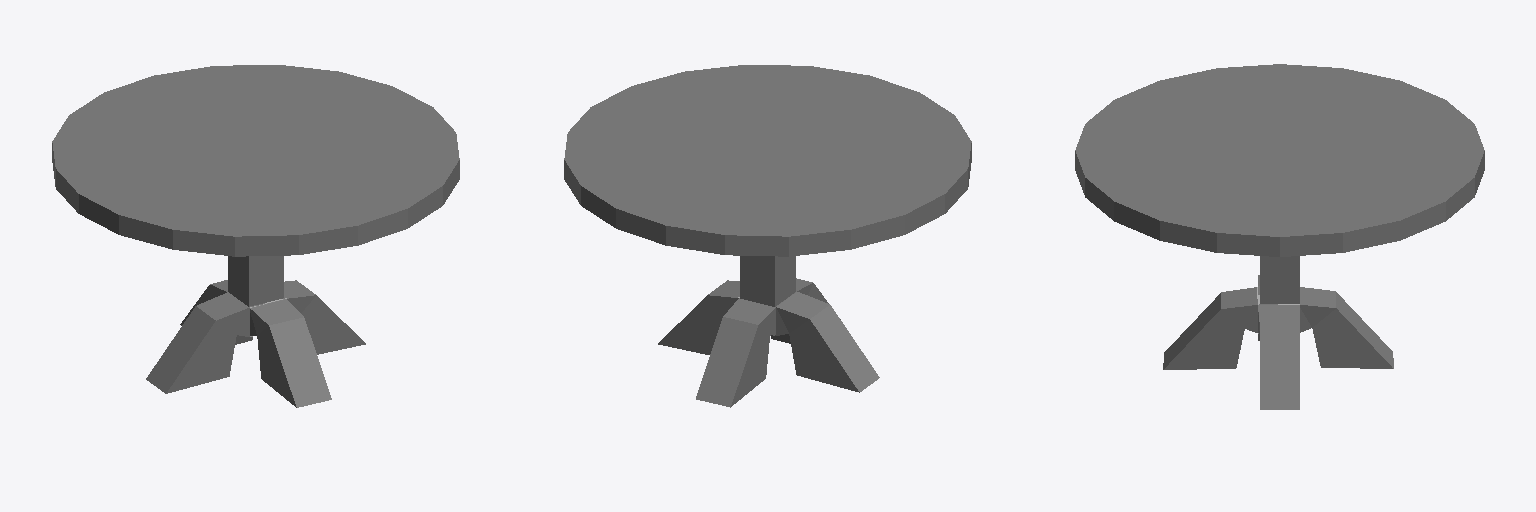
3 renders of one model, left to right at view 1: azimuth 30°, elevation 25°; view 2: azimuth 150°, elevation 25°; view 3: azimuth 270°, elevation 25°, orthographic.
Visible parts, largest first — view 1: pCylinder1, pasted__pasted__pCube1 pasted__group group3, pasted__pasted__pCube1 pasted__group group1, pasted__pCube1 group, pCube1, pasted__pasted__pCube1 pasted__group group2; view 2: pCylinder1, pasted__pasted__pCube1 pasted__group group3, pasted__pasted__pCube1 pasted__group group2, pasted__pCube1 group, pCube1; view 3: pCylinder1, pasted__pasted__pCube1 pasted__group group1, pasted__pasted__pCube1 pasted__group group2, pasted__pCube1 group, pCube1.
Boxes of the visible parts, x1,y1,x2,y2 form: pCylinder1: [52, 65, 459, 256]; pasted__pasted__pCube1 pasted__group group3: [146, 292, 283, 393]; pasted__pasted__pCube1 pasted__group group1: [250, 297, 331, 407]; pasted__pCube1 group: [284, 280, 365, 354]; pCube1: [228, 256, 283, 306]; pasted__pasted__pCube1 pasted__group group2: [180, 280, 286, 344]; pCylinder1: [564, 65, 971, 256]; pasted__pasted__pCube1 pasted__group group3: [775, 291, 879, 392]; pasted__pasted__pCube1 pasted__group group2: [696, 298, 781, 407]; pasted__pCube1 group: [658, 280, 774, 354]; pCube1: [740, 256, 795, 306]; pCylinder1: [1075, 64, 1484, 256]; pasted__pasted__pCube1 pasted__group group1: [1163, 287, 1299, 369]; pasted__pasted__pCube1 pasted__group group2: [1257, 287, 1393, 368]; pasted__pCube1 group: [1258, 305, 1299, 409]; pCube1: [1260, 256, 1299, 303].
Bounding box in the file's own units: 6.81 × 3.87 × 6.81.
Materials: 1 (1 with a texture image).